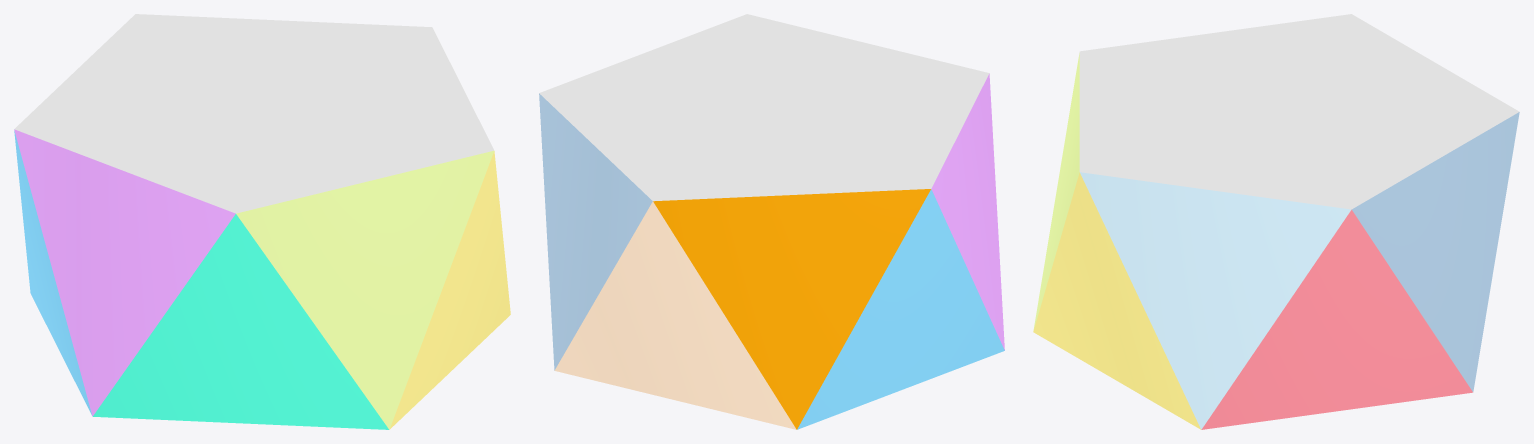
Rendered from INF-A5.glb.
3 renders of one model, left to right at view 1: azimuth 30°, elevation 25°; view 2: azimuth 150°, elevation 25°; view 3: azimuth 270°, elevation 25°, orthographic. The views are drawn at different scales.
Parts seen in each view (by area): view 1: Icosphere; view 2: Icosphere; view 3: Icosphere.
Boxes of the visible parts, bbox=[...] form: Icosphere: bbox=[14, 14, 510, 429]; Icosphere: bbox=[539, 14, 1004, 429]; Icosphere: bbox=[1033, 14, 1519, 429].
Size of the model in its own units: 2.55 by 1.34 by 2.68.
